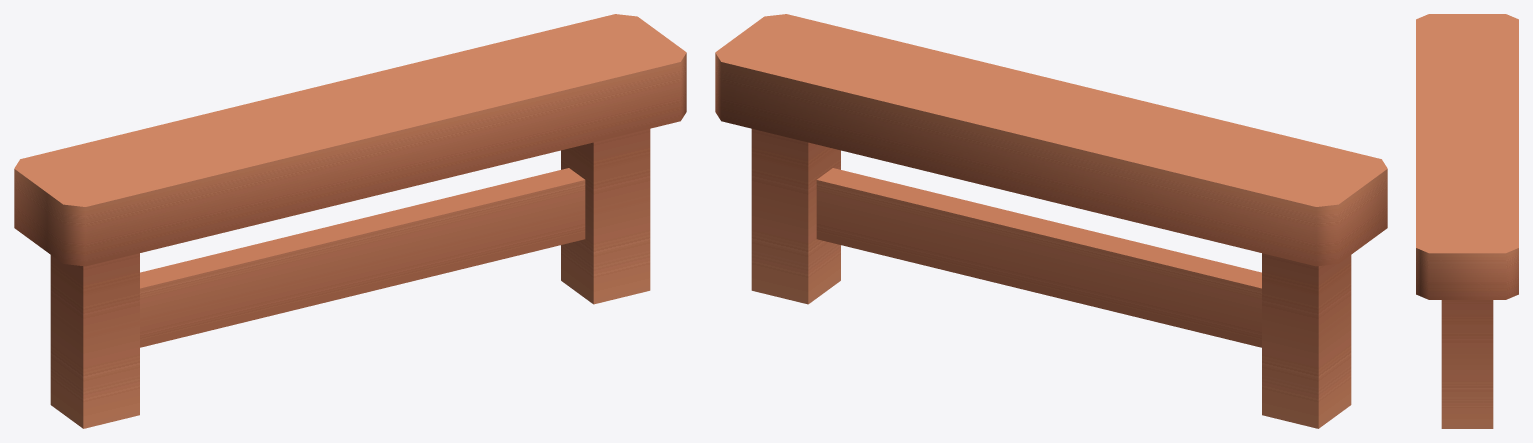
The model's file is cabin-fence.glb.
3 renders of one model, left to right at view 1: azimuth 30°, elevation 25°; view 2: azimuth 150°, elevation 25°; view 3: azimuth 270°, elevation 25°, orthographic. The views are drawn at different scales.
Visible parts, largest first — view 1: cabin-fence; view 2: cabin-fence; view 3: cabin-fence.
Part boxes in pixels (box(x1,y1,x2,y2)): cabin-fence: box(14, 14, 686, 428); cabin-fence: box(715, 14, 1387, 428); cabin-fence: box(1416, 14, 1518, 428).
Bounding box in the file's own units: 1.1 × 0.4001 × 0.1999.
1 material, 1 textured.
